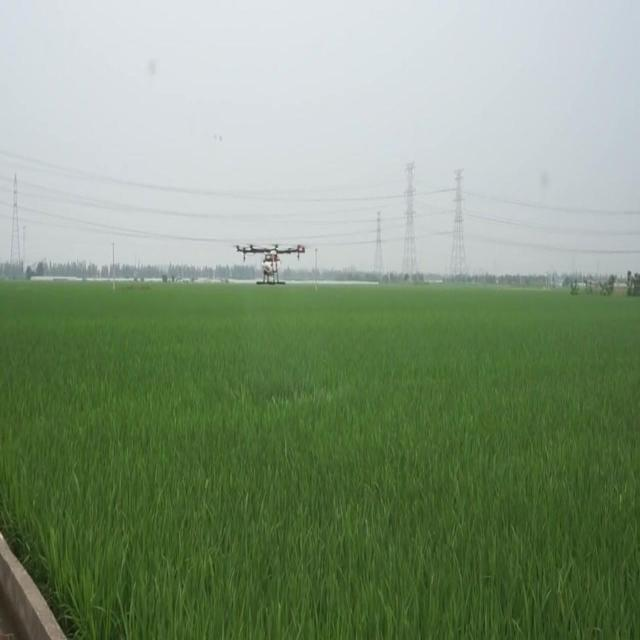drone: (233, 239, 310, 286)
